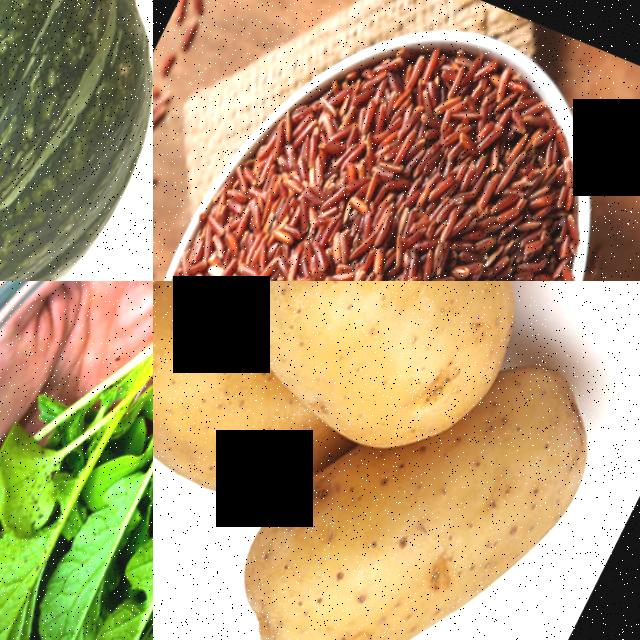potato: (204, 414, 570, 640), (190, 281, 575, 473), (153, 281, 265, 454)
pumpkin: (0, 0, 153, 281)
red rice: (153, 0, 640, 281)
